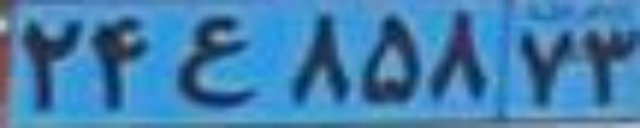2: (21, 17, 80, 111)
3: (581, 27, 637, 105)
4: (89, 16, 144, 110)
5: (356, 12, 422, 103)
7: (519, 28, 571, 106)
8: (423, 8, 492, 100), (290, 12, 349, 104)
ain: (172, 14, 257, 106)
